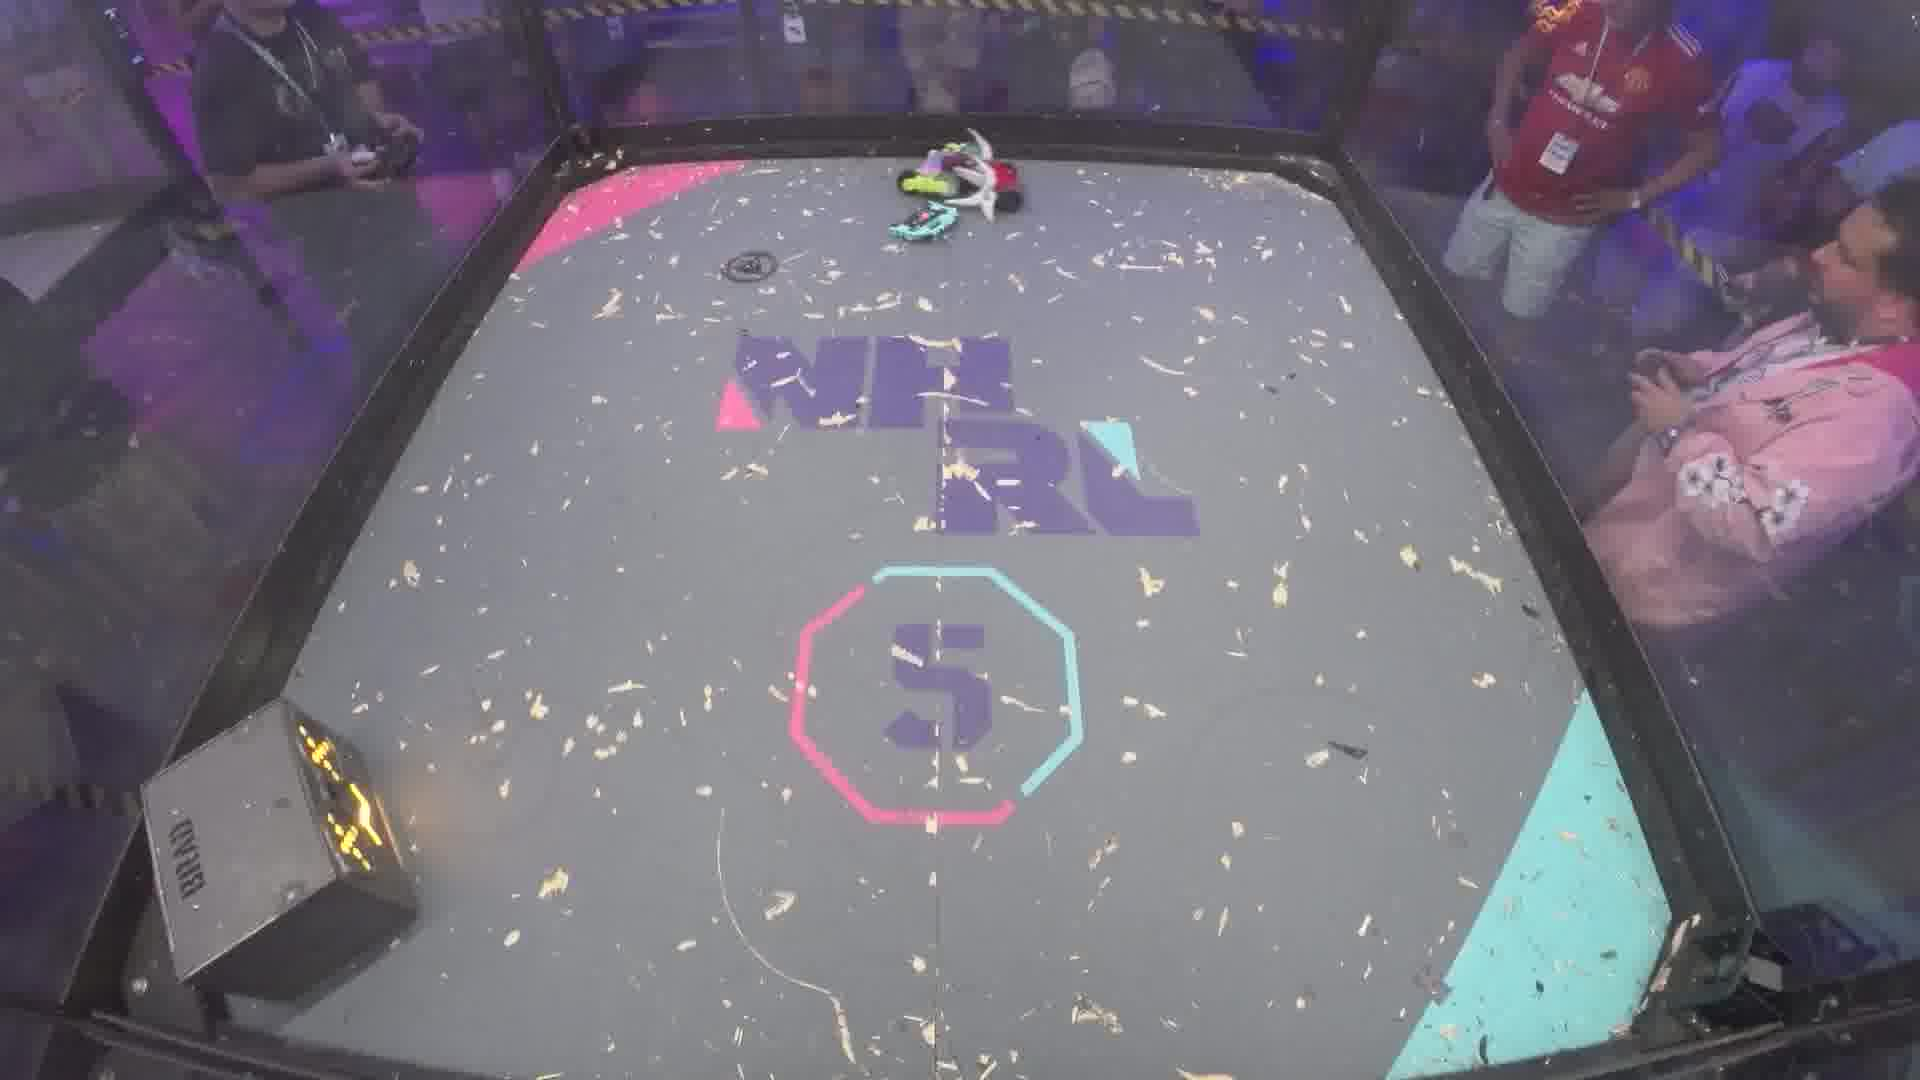combatbot: (894, 142, 992, 195), (961, 162, 1026, 222)
debris: (719, 252, 781, 285)
housebot: (137, 696, 423, 1005)
minibot: (885, 206, 963, 248)
